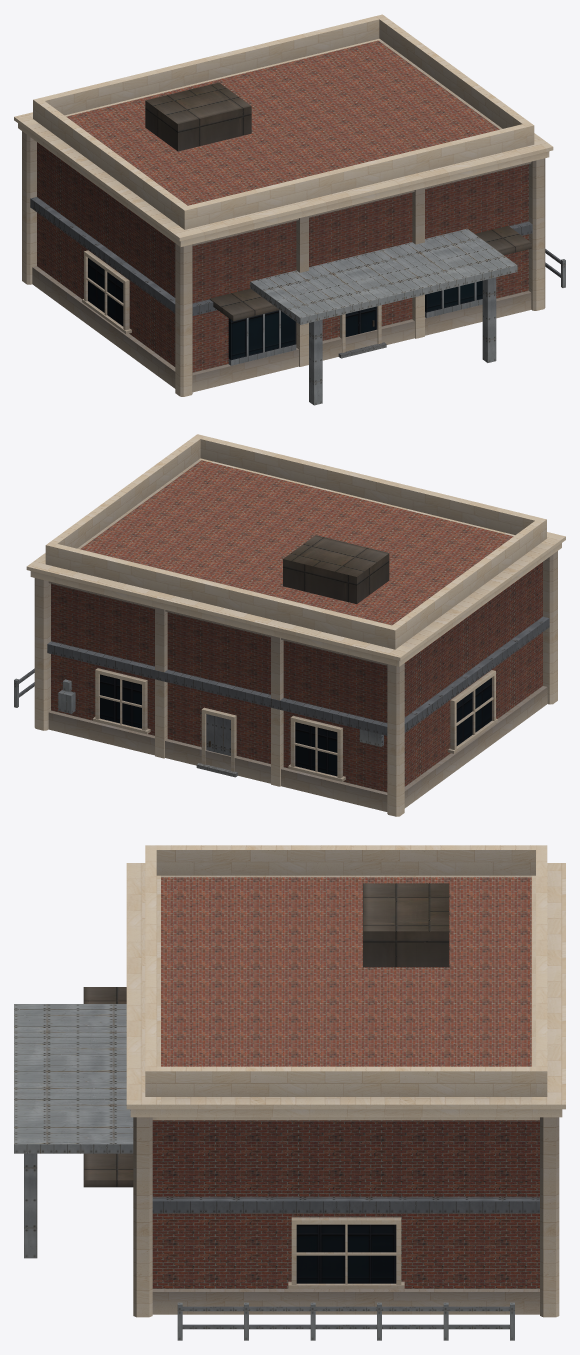
Rendered from harbor-paws-vet-clinic_lod0.gltf.
3 renders of one model, top to bottom at view 1: azimuth 30°, elevation 25°; view 2: azimuth 150°, elevation 25°; view 3: azimuth 270°, elevation 25°, orthographic. The views are drawn at different scales.
Visible parts, largest first — view 1: harbor-paws-vet-clinic__v4_stone_detail, harbor-paws-vet-clinic_main, harbor-paws-vet-clinic__parapet, harbor-paws-vet-clinic__dropoff_canopy, harbor-paws-vet-clinic__v4_metal_detail, harbor-paws-vet-clinic_fen_07-glass-curtain-blue_1_t, harbor-paws-vet-clinic__trim_band, harbor-paws-vet-clinic_fen_04-limestone_0, harbor-paws-vet-clinic__canopy_post_b, harbor-paws-vet-clinic_fen_14-steel-panel_4, harbor-paws-vet-clinic__canopy_post_a; view 2: harbor-paws-vet-clinic__v4_stone_detail, harbor-paws-vet-clinic_main, harbor-paws-vet-clinic__parapet, harbor-paws-vet-clinic__trim_band, harbor-paws-vet-clinic__v4_metal_detail, harbor-paws-vet-clinic_fen_04-limestone_0, harbor-paws-vet-clinic_fen_07-glass-curtain-blue_1_t, harbor-paws-vet-clinic_fen_14-steel-panel_4; view 3: harbor-paws-vet-clinic__v4_stone_detail, harbor-paws-vet-clinic__parapet, harbor-paws-vet-clinic_main, harbor-paws-vet-clinic__dropoff_canopy, harbor-paws-vet-clinic__v4_metal_detail, harbor-paws-vet-clinic__trim_band, harbor-paws-vet-clinic_fen_07-glass-curtain-blue_1_t, harbor-paws-vet-clinic__side_fence, harbor-paws-vet-clinic_fen_04-limestone_0, harbor-paws-vet-clinic__canopy_post_b.
Boxes of the visible parts, bbox=[...] form: harbor-paws-vet-clinic__v4_stone_detail: bbox=[14, 14, 553, 396]; harbor-paws-vet-clinic_main: bbox=[37, 142, 528, 372]; harbor-paws-vet-clinic__parapet: bbox=[66, 40, 499, 205]; harbor-paws-vet-clinic__dropoff_canopy: bbox=[250, 228, 517, 324]; harbor-paws-vet-clinic__v4_metal_detail: bbox=[145, 82, 531, 321]; harbor-paws-vet-clinic_fen_07-glass-curtain-blue_1_t: bbox=[88, 258, 482, 360]; harbor-paws-vet-clinic__trim_band: bbox=[30, 197, 532, 315]; harbor-paws-vet-clinic_fen_04-limestone_0: bbox=[82, 250, 381, 352]; harbor-paws-vet-clinic__canopy_post_b: bbox=[482, 277, 496, 362]; harbor-paws-vet-clinic_fen_14-steel-panel_4: bbox=[228, 282, 482, 365]; harbor-paws-vet-clinic__canopy_post_a: bbox=[309, 319, 322, 405]; harbor-paws-vet-clinic__v4_stone_detail: bbox=[26, 434, 565, 816]; harbor-paws-vet-clinic_main: bbox=[51, 562, 542, 792]; harbor-paws-vet-clinic__parapet: bbox=[80, 460, 513, 625]; harbor-paws-vet-clinic__trim_band: bbox=[47, 616, 549, 735]; harbor-paws-vet-clinic__v4_metal_detail: bbox=[283, 535, 389, 604]; harbor-paws-vet-clinic_fen_04-limestone_0: bbox=[93, 668, 497, 781]; harbor-paws-vet-clinic_fen_07-glass-curtain-blue_1_t: bbox=[100, 674, 491, 776]; harbor-paws-vet-clinic_fen_14-steel-panel_4: bbox=[58, 679, 383, 755]; harbor-paws-vet-clinic__v4_stone_detail: bbox=[126, 845, 565, 1317]; harbor-paws-vet-clinic__parapet: bbox=[161, 877, 531, 1066]; harbor-paws-vet-clinic_main: bbox=[152, 1120, 539, 1288]; harbor-paws-vet-clinic__dropoff_canopy: bbox=[14, 1004, 133, 1153]; harbor-paws-vet-clinic__v4_metal_detail: bbox=[83, 883, 449, 1187]; harbor-paws-vet-clinic__trim_band: bbox=[152, 1197, 539, 1213]; harbor-paws-vet-clinic_fen_07-glass-curtain-blue_1_t: bbox=[296, 1224, 396, 1283]; harbor-paws-vet-clinic__side_fence: bbox=[177, 1302, 514, 1340]; harbor-paws-vet-clinic_fen_04-limestone_0: bbox=[288, 1217, 404, 1288]; harbor-paws-vet-clinic__canopy_post_b: bbox=[24, 1153, 37, 1258].
Bounding box in the file's own units: 18.68 × 8.35 × 16.61.
